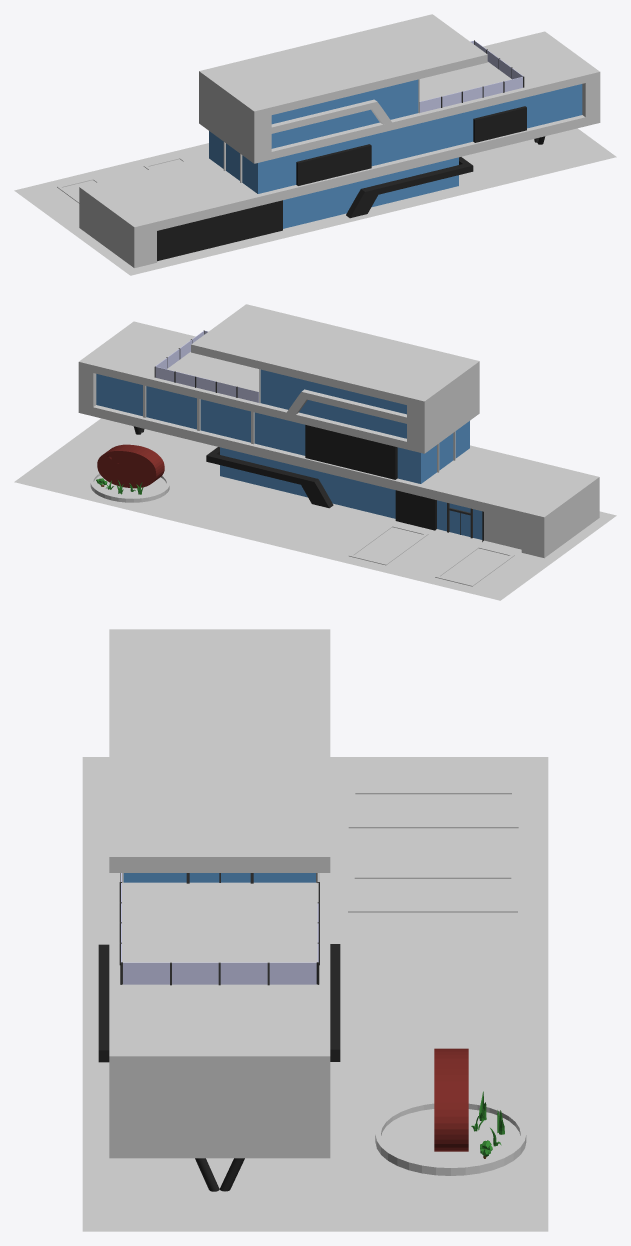
The model's file is work.fbx.
3 views of the same model, one above another, from view 1: azimuth 30°, elevation 25°; view 2: azimuth 150°, elevation 25°; view 3: azimuth 270°, elevation 25° (orthographic). The views are drawn at different scales.
Parts seen in each view (by area): view 1: walls.001; view 2: walls.001, HCAI, HCAI.bottom, garden_door_left; view 3: walls.001, HCAI.bottom, garden_door_left, HCAI.
Boxes of the visible parts, left/top/right/bottom form: walls.001: left=14, top=14, right=616, bottom=275; walls.001: left=14, top=304, right=616, bottom=600; HCAI: left=97, top=444, right=164, bottom=488; HCAI.bottom: left=90, top=472, right=169, bottom=502; garden_door_left: left=348, top=524, right=514, bottom=586; walls.001: left=82, top=629, right=548, bottom=1231; HCAI.bottom: left=375, top=1101, right=526, bottom=1175; garden_door_left: left=348, top=790, right=518, bottom=912; HCAI: left=434, top=1048, right=468, bottom=1151.
Size of the model in its own units: 12985 by 3262 by 5385.
